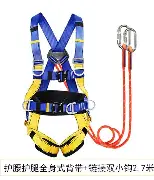safety belt: (23, 17, 141, 159)
